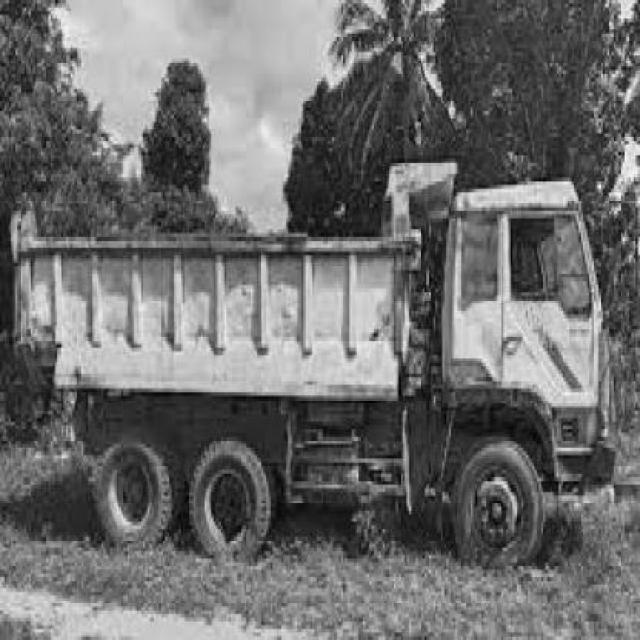Box Truck: (14, 163, 617, 571)
